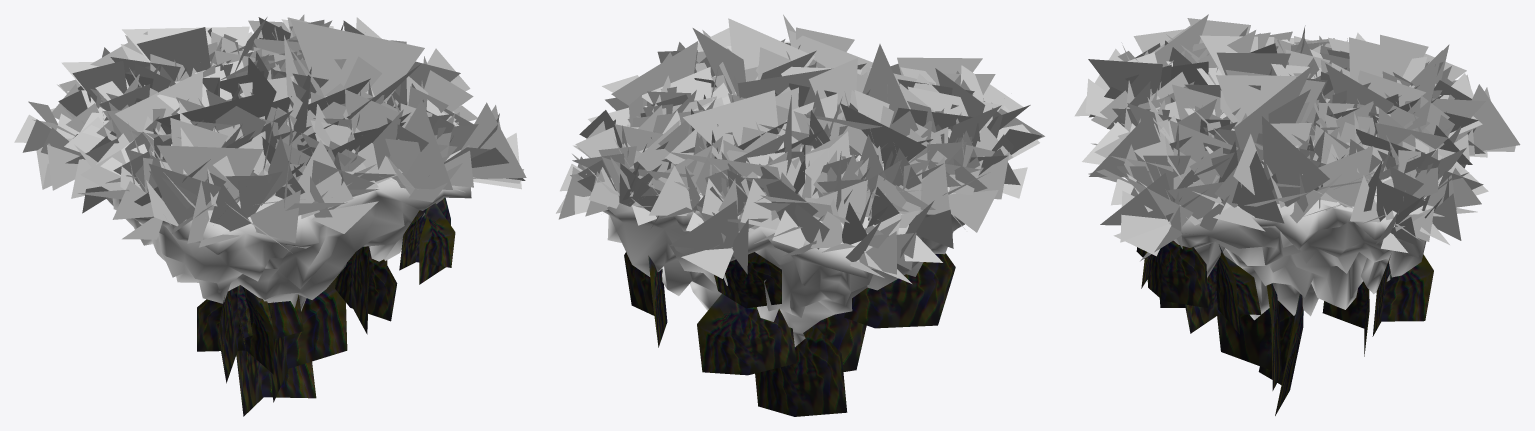
File: Divot_01.fbx
The picture shows the model from 3 angles, left to right: view 1: azimuth 30°, elevation 25°; view 2: azimuth 150°, elevation 25°; view 3: azimuth 270°, elevation 25°; orthographic projection. The views are drawn at different scales.
Visible parts, largest first — view 1: Divot_Grass, Divot_Roots, Divot; view 2: Divot_Grass, Divot_Roots, Divot; view 3: Divot_Grass, Divot_Roots, Divot.
Part boxes in pixels (x1,y1,x2,y2): Divot_Grass: [14, 14, 526, 250]; Divot_Roots: [197, 197, 455, 416]; Divot: [106, 148, 471, 311]; Divot_Grass: [556, 14, 1044, 283]; Divot_Roots: [624, 252, 955, 416]; Divot: [603, 184, 964, 346]; Divot_Grass: [1074, 14, 1520, 261]; Divot_Roots: [1136, 240, 1433, 415]; Divot: [1148, 142, 1465, 320].
Bounding box in the file's own units: 2.91 × 2.58 × 2.98.
